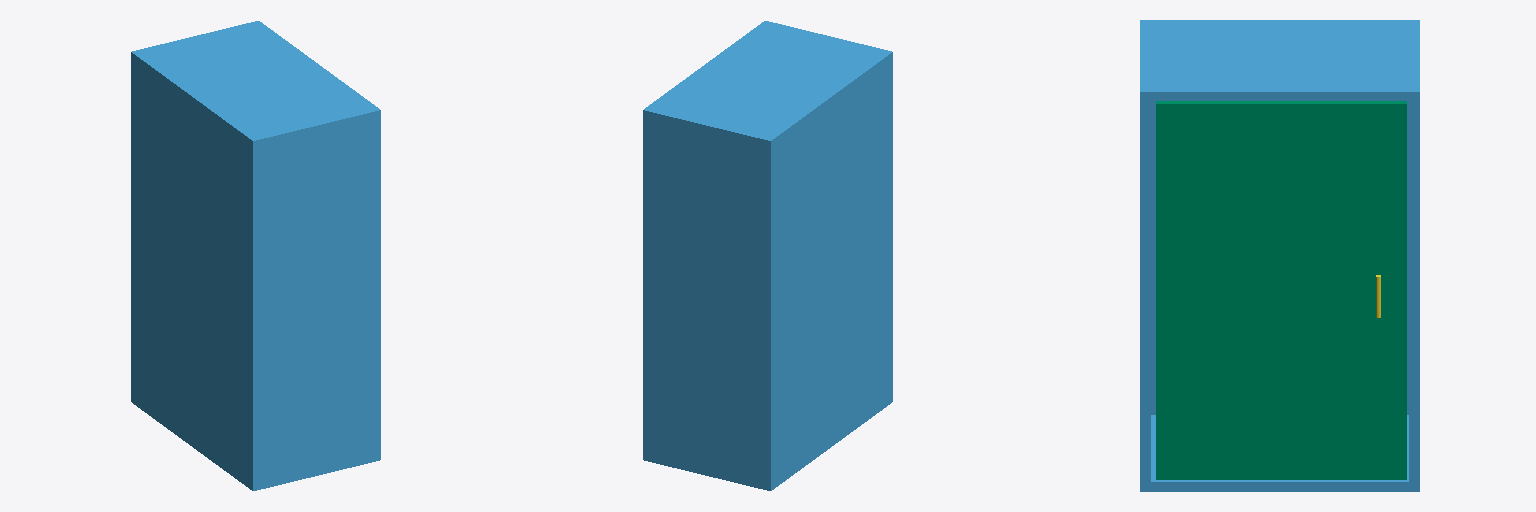
robot.urdf — my_cabinet:
<?xml version="1.0" ?>
<robot name="my_cabinet">
	<link name="world"/>
	<joint name="virtual_joint" type="fixed">
		<parent link="world"/>
		<child link="base_cabinet_link"/>
		<origin xyz="0.0 0.0 0.0" rpy="0.0 0.0 0.0"/>
	</joint>
	<link name="base_cabinet_link">
		<visual>
			<origin xyz="0.0 -0.0025 -0.38303638227672077" rpy="0.0 0.0 0.0"/>
			<geometry>
				<box size="0.3 0.49631887629049426 0.018"/>
			</geometry>
		</visual>
		<collision name="base_cabinet_link_collision_0">
			<origin xyz="0.0 -0.0025 -0.38303638227672077" rpy="0.0 0.0 0.0"/>
			<geometry>
				<box size="0.3 0.49631887629049426 0.018"/>
			</geometry>
		</collision>
		<visual>
			<origin xyz="0.0 0.23665943814524715 0.0" rpy="0.0 0.0 0.0"/>
			<geometry>
				<box size="0.3 0.018 0.7840727645534415"/>
			</geometry>
		</visual>
		<collision name="base_cabinet_link_collision_1">
			<origin xyz="0.0 0.23665943814524715 0.0" rpy="0.0 0.0 0.0"/>
			<geometry>
				<box size="0.3 0.018 0.7840727645534415"/>
			</geometry>
		</collision>
		<visual>
			<origin xyz="0.0 -0.24165943814524715 0.0" rpy="0.0 0.0 0.0"/>
			<geometry>
				<box size="0.3 0.018 0.7840727645534415"/>
			</geometry>
		</visual>
		<collision name="base_cabinet_link_collision_2">
			<origin xyz="0.0 -0.24165943814524715 0.0" rpy="0.0 0.0 0.0"/>
			<geometry>
				<box size="0.3 0.018 0.7840727645534415"/>
			</geometry>
		</collision>
		<visual>
			<origin xyz="0.0 -0.0025 0.38303638227672077" rpy="0.0 0.0 0.0"/>
			<geometry>
				<box size="0.3 0.49631887629049426 0.018"/>
			</geometry>
		</visual>
		<collision name="base_cabinet_link_collision_3">
			<origin xyz="0.0 -0.0025 0.38303638227672077" rpy="0.0 0.0 0.0"/>
			<geometry>
				<box size="0.3 0.49631887629049426 0.018"/>
			</geometry>
		</collision>
		<visual>
			<origin xyz="-0.141 -0.0025 0.0" rpy="0.0 0.0 0.0"/>
			<geometry>
				<box size="0.018 0.49631887629049426 0.7840727645534415"/>
			</geometry>
		</visual>
		<collision name="base_cabinet_link_collision_4">
			<origin xyz="-0.141 -0.0025 0.0" rpy="0.0 0.0 0.0"/>
			<geometry>
				<box size="0.018 0.49631887629049426 0.7840727645534415"/>
			</geometry>
		</collision>
		<inertial>
			<mass value="0.200000"/>
			<inertia ixx="0.014352" ixy="0.0" ixz="0.0" iyy="0.011746" iyz="0.0" izz="0.005606"/>
		</inertial>
	</link>
	<link name="door_link">
		<visual>
			<origin xyz="0.0 -0.22265943814524713 0.0"/>
			<geometry>
				<box size="0.018 0.44531887629049427 0.7380727645534415"/>
			</geometry>
		</visual>
		<collision name="door_link_collision">
			<origin xyz="0.0 -0.22265943814524713 0.0"/>
			<geometry>
				<box size="0.018 0.44531887629049427 0.7380727645534415"/>
			</geometry>
		</collision>
		<inertial>
			<mass value="0.200000"/>
			<inertia ixx="0.012384" ixy="0.0" ixz="0.0" iyy="0.009085" iyz="0.0" izz="0.003311"/>
		</inertial>
	</link>
	<joint name="door_joint" type="revolute">
		<origin xyz="0.141 -0.22265943814524713 0.0" rpy="0.000000 -0.000000 3.141593"/>
		<axis xyz="0 0 1"/>
		<parent link="base_cabinet_link"/>
		<child link="door_link"/>
		<limit effort="50" lower="-1.658062789394613" upper="0" velocity="10"/>
		<dynamics friction="3.5" damping="3.5"/>
	</joint>
	<link name="handle_link">
		<visual>
			<origin xyz="0.0 0.0 0.0" rpy="0.0 0.0 0.0"/>
			<geometry>
				<cylinder length="0.08" radius="0.005"/>
			</geometry>
		</visual>
		<collision name="handle_link_collision_0">
			<origin xyz="0.0 0.0 0.0" rpy="0.0 0.0 0.0"/>
			<geometry>
				<cylinder length="0.08" radius="0.005"/>
			</geometry>
		</collision>
		<visual>
			<origin xyz="-0.01 0.0 0.02" rpy="0.0 1.5707963267948966 0.0"/>
			<geometry>
				<cylinder length="0.02" radius="0.003"/>
			</geometry>
		</visual>
		<collision name="handle_link_collision_1">
			<origin xyz="-0.01 0.0 0.02" rpy="0.0 1.5707963267948966 0.0"/>
			<geometry>
				<cylinder length="0.01" radius="0.003"/>
			</geometry>
		</collision>
		<visual>
			<origin xyz="-0.01 0.0 -0.02" rpy="0.0 1.5707963267948966 0.0"/>
			<geometry>
				<cylinder length="0.02" radius="0.003"/>
			</geometry>
		</visual>
		<collision name="handle_link_collision_2">
			<origin xyz="-0.01 0.0 -0.02" rpy="0.0 1.5707963267948966 0.0"/>
			<geometry>
				<cylinder length="0.02" radius="0.003"/>
			</geometry>
		</collision>
		<inertial>
			<mass value="0.050000"/>
			<inertia ixx="0.000027" ixy="0.0" ixz="0.0" iyy="0.000029" iyz="0.0" izz="0.000003"/>
		</inertial>
	</link>
	<joint name="handle_joint" type="fixed">
		<origin xyz="-0.028999999999999998 -0.3953188762904943 0.0" rpy="0.000000 -0.000000 3.141593"/>
		<parent link="door_link"/>
		<child link="handle_link"/>
	</joint>
	<gazebo reference="base_cabinet_link">
		<sensor name="main_sensor" type="contact">
			<selfCollide>true</selfCollide>
			<alwaysOn>true</alwaysOn>
			<updateRate>5.0</updateRate>
			<material>Gazebo/Red</material>
			<contact>
				<collision>base_cabinet_link_collision_0_collision</collision>
				<collision>base_cabinet_link_collision_1_collision</collision>
				<collision>base_cabinet_link_collision_2_collision</collision>
				<collision>base_cabinet_link_collision_3_collision</collision>
				<collision>base_cabinet_link_collision_4_collision</collision>
			</contact>
			<plugin name="gazebo_ros_bumper_controller" filename="libgazebo_ros_bumper.so">
				<bumperTopicName>/contact</bumperTopicName>
				<frameName>world</frameName>
			</plugin>
		</sensor>
	</gazebo>
	<gazebo reference="door_link">
		<sensor name="main_sensor" type="contact">
			<selfCollide>true</selfCollide>
			<alwaysOn>true</alwaysOn>
			<updateRate>5.0</updateRate>
			<material>Gazebo/Red</material>
			<contact>
				<collision>door_link_collision_collision</collision>
			</contact>
			<plugin name="gazebo_ros_bumper_controller" filename="libgazebo_ros_bumper.so">
				<bumperTopicName>/contact_door</bumperTopicName>
				<frameName>contact_door</frameName>
			</plugin>
		</sensor>
	</gazebo>
	<gazebo reference="door_link">
		<mu>3.0</mu>
		<mu2>3.0</mu2>
		<kp>10000000</kp>
		<kd>100</kd>
	</gazebo>
</robot>

--- Render facts (derived) ---
3 views of the same robot in one strip: view 1: azimuth 30°, elevation 25°; view 2: azimuth 150°, elevation 25°; view 3: azimuth 270°, elevation 25° (orthographic).
Model my_cabinet with 4 links and 3 joints (1 revolute, 2 fixed), rooted at world, posed all joints at 0.
Visible links, largest first — view 1: base_cabinet_link; view 2: base_cabinet_link; view 3: door_link, base_cabinet_link.
Link boxes in pixels (x1,y1,x2,y2): base_cabinet_link: [131, 21, 380, 490]; base_cabinet_link: [643, 21, 892, 490]; door_link: [1156, 101, 1406, 479]; base_cabinet_link: [1140, 20, 1419, 491].
Bounding box of the posed robot: 0.325 × 0.4963 × 0.7841 m (x, y, z).
Geometry: primitives only (box / cylinder / sphere), no mesh files.
